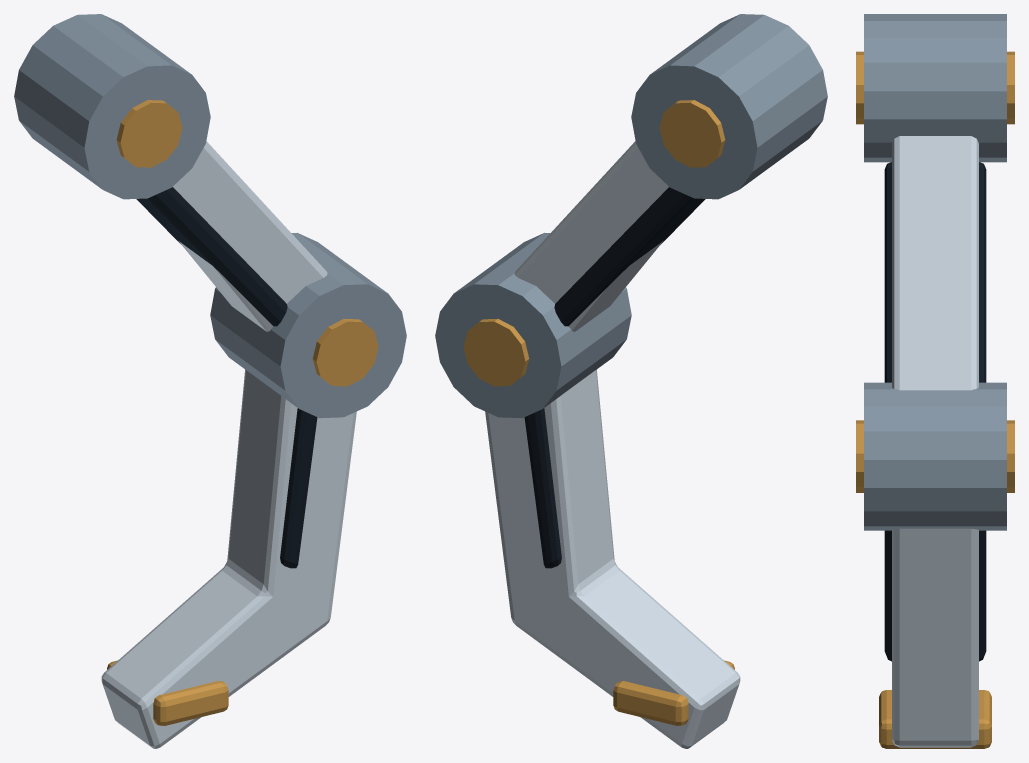
The model's file is claw-finger.glb.
3 renders of one model, left to right at view 1: azimuth 30°, elevation 25°; view 2: azimuth 150°, elevation 25°; view 3: azimuth 270°, elevation 25°, orthographic.
Parts seen in each view (by area): view 1: claw-finger__chrome, claw-finger__steel, claw-finger__brass, claw-finger__dark; view 2: claw-finger__chrome, claw-finger__steel, claw-finger__brass, claw-finger__dark; view 3: claw-finger__chrome, claw-finger__steel, claw-finger__dark, claw-finger__brass.
Part boxes in pixels (x1,y1,x2,y2): claw-finger__chrome: (101, 141, 356, 748); claw-finger__steel: (14, 14, 406, 418); claw-finger__brass: (107, 100, 378, 725); claw-finger__dark: (136, 187, 317, 568); claw-finger__chrome: (485, 141, 740, 748); claw-finger__steel: (435, 14, 827, 418); claw-finger__brass: (463, 100, 734, 725); claw-finger__dark: (524, 187, 705, 568); claw-finger__chrome: (892, 136, 978, 747); claw-finger__steel: (864, 14, 1006, 530); claw-finger__dark: (884, 162, 986, 661); claw-finger__brass: (856, 51, 1014, 748).
Bounding box in the file's own units: 0.291 × 0.6046 × 0.122.
